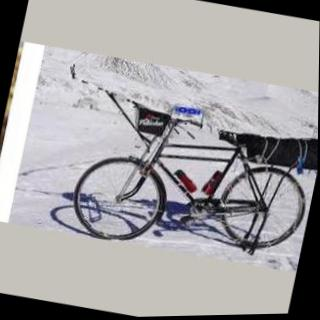Bike: (64, 87, 319, 275)
